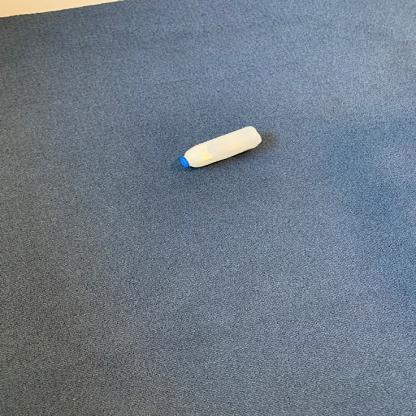trash: (176, 122, 266, 173)
